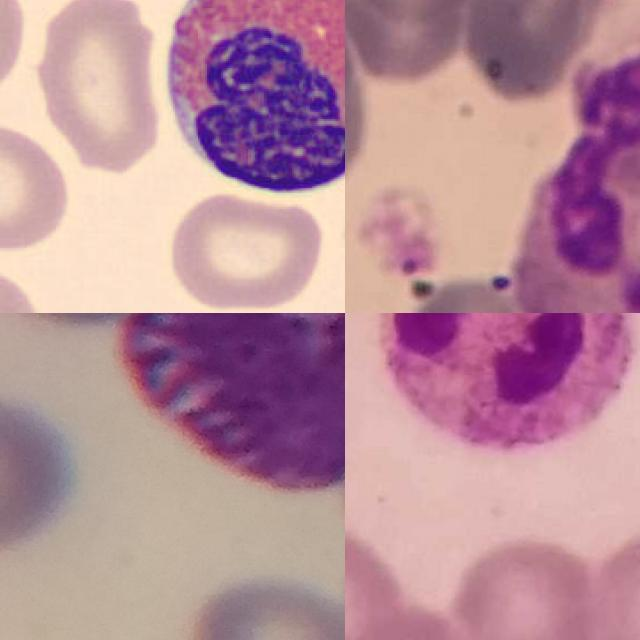Basophil: (118, 313, 345, 498)
Eosinophil: (148, 0, 345, 207)
Neutrophil: (512, 45, 640, 313), (379, 313, 635, 447)
RBC: (31, 0, 166, 175), (162, 189, 327, 313), (0, 117, 75, 258), (0, 0, 32, 114), (0, 258, 47, 313)
